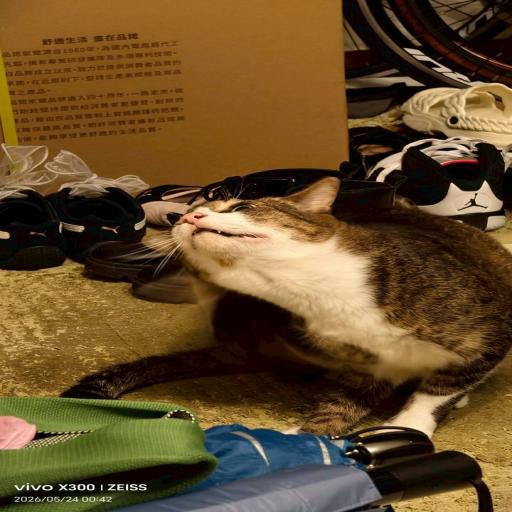cat: (147, 182, 497, 426)
